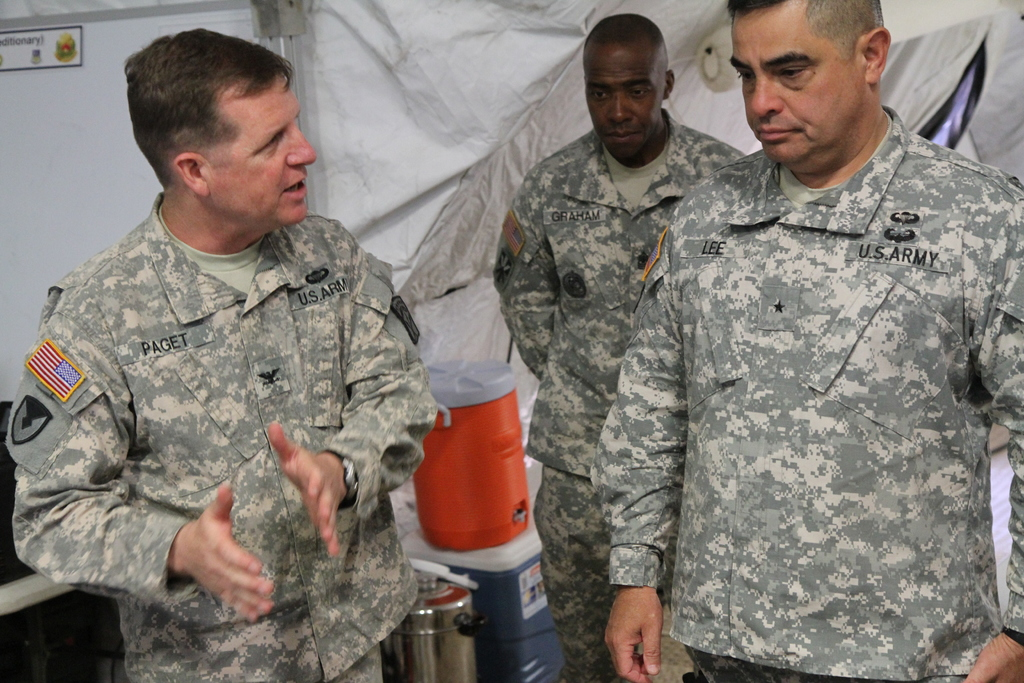Person: (589, 0, 1024, 683), (4, 27, 438, 683), (483, 3, 754, 681)
